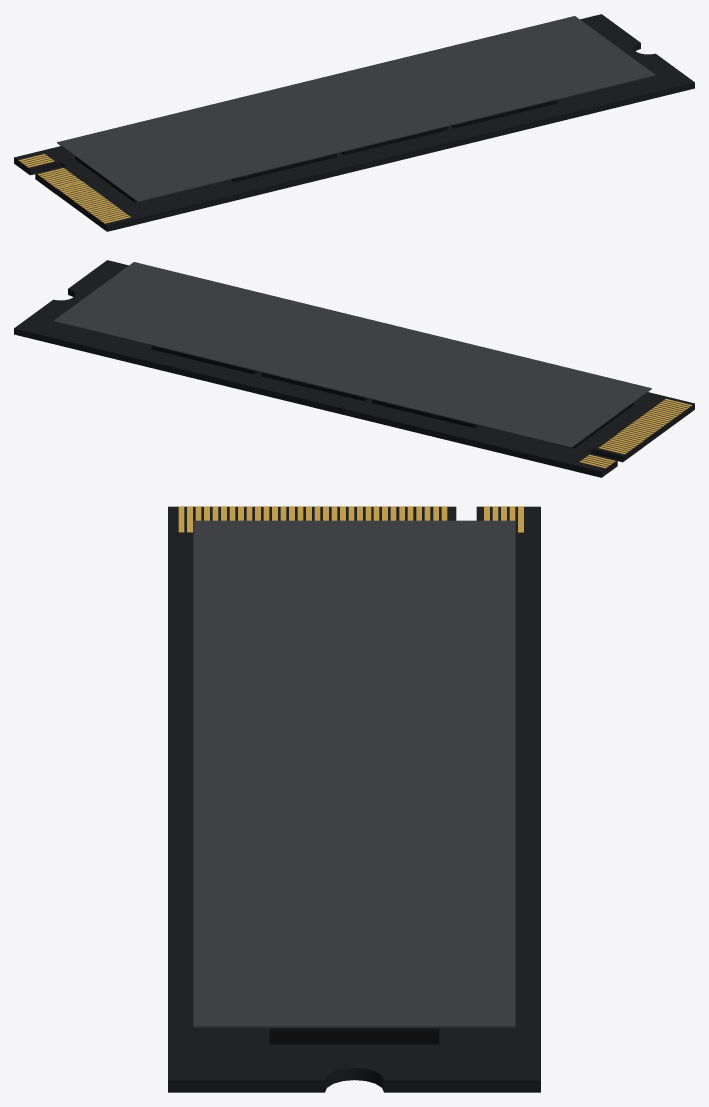
Rendered from m-2-2280-ssd-nvme-m-key.glb.
3 renders of one model, top to bottom at view 1: azimuth 30°, elevation 25°; view 2: azimuth 150°, elevation 25°; view 3: azimuth 270°, elevation 25°, orthographic. The views are drawn at different scales.
Parts seen in each view (by area): view 1: Plain label area - Plain label, dark grey, PCB with key notch and mounting notch - PCB, black solder ma, Gold edge fingers - Gold edge fingers, Controller, NAND and DRAM packages - Chip packages, black; view 2: Plain label area - Plain label, dark grey, PCB with key notch and mounting notch - PCB, black solder ma, Gold edge fingers - Gold edge fingers, Controller, NAND and DRAM packages - Chip packages, black; view 3: Plain label area - Plain label, dark grey, PCB with key notch and mounting notch - PCB, black solder ma, Gold edge fingers - Gold edge fingers, Controller, NAND and DRAM packages - Chip packages, black.
Part boxes in pixels (<box>): Plain label area - Plain label, dark grey: <box>57,16,655,201</box>; PCB with key notch and mounting notch - PCB, black solder ma: <box>14,14,694,231</box>; Gold edge fingers - Gold edge fingers: <box>18,154,130,229</box>; Controller, NAND and DRAM packages - Chip packages, black: <box>75,100,557,202</box>; Plain label area - Plain label, dark grey: <box>53,262,651,447</box>; PCB with key notch and mounting notch - PCB, black solder ma: <box>14,260,694,477</box>; Gold edge fingers - Gold edge fingers: <box>579,399,692,468</box>; Controller, NAND and DRAM packages - Chip packages, black: <box>151,346,633,448</box>; Plain label area - Plain label, dark grey: <box>193,520,515,1027</box>; PCB with key notch and mounting notch - PCB, black solder ma: <box>168,506,540,1092</box>; Gold edge fingers - Gold edge fingers: <box>178,506,523,532</box>; Controller, NAND and DRAM packages - Chip packages, black: <box>269,1028,439,1044</box>.
Size of the model in its own units: 0.08 by 0.00225 by 0.022.
Materials: 4 (4 with a texture image).
